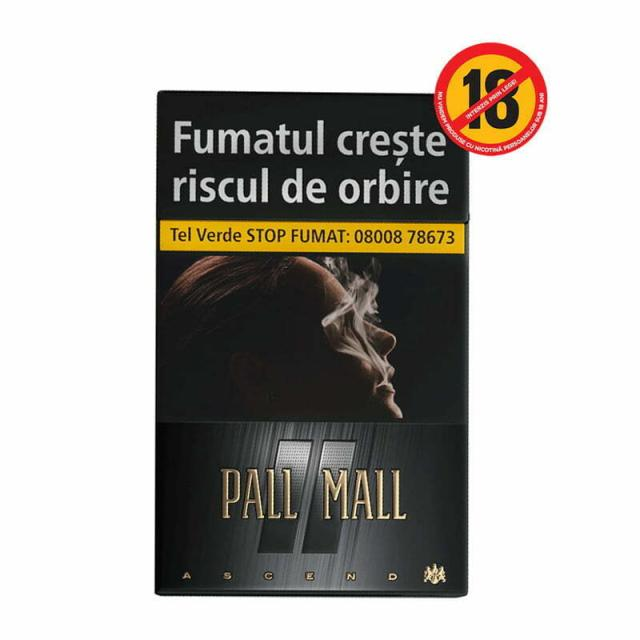pallmall: (142, 74, 484, 597)
